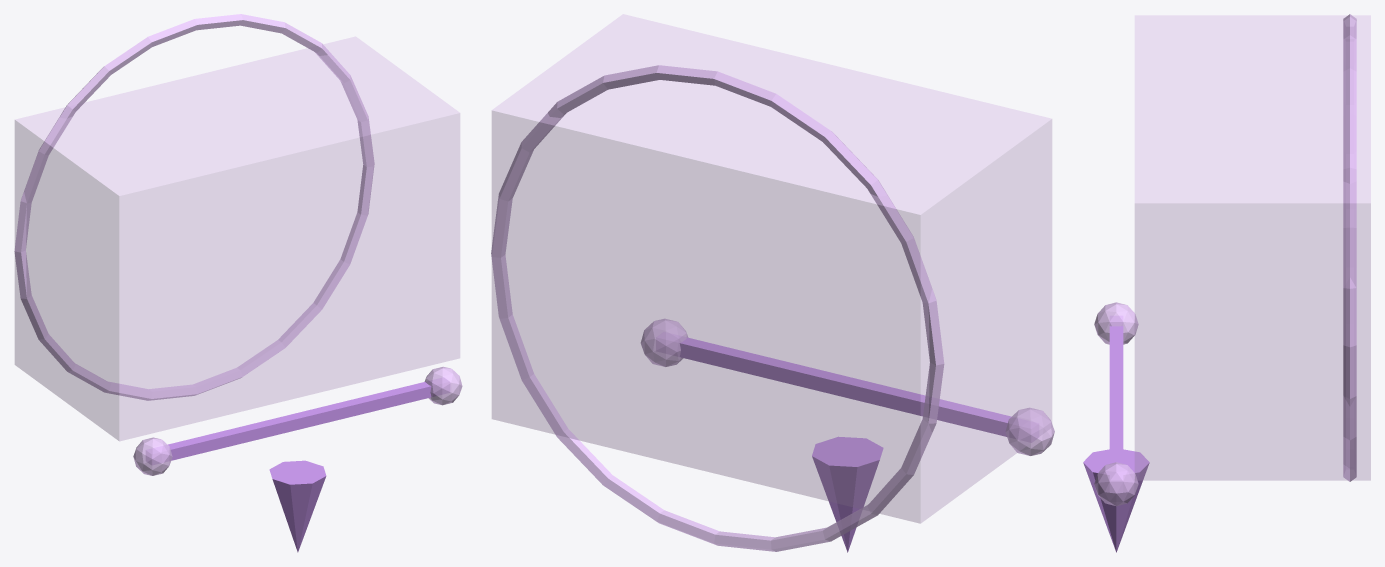
File: 06_dynamic_combat_camera_trigger.glb
3 renders of one model, left to right at view 1: azimuth 30°, elevation 25°; view 2: azimuth 150°, elevation 25°; view 3: azimuth 270°, elevation 25°, orthographic. The views are drawn at different scales.
Visible parts, largest first — view 1: combat_camera_volume, combat_start_ring, camera_rail, look_direction, camera_anchor_a, camera_anchor_b; view 2: combat_camera_volume, combat_start_ring, camera_rail, look_direction, camera_anchor_a, camera_anchor_b; view 3: combat_camera_volume, combat_start_ring, look_direction, camera_rail, camera_anchor_b, camera_anchor_a.
Part boxes in pixels (x1,y1,x2,y2): combat_camera_volume: (15, 36, 459, 441); combat_start_ring: (14, 14, 374, 400); camera_rail: (146, 378, 449, 464); look_direction: (269, 460, 326, 552); camera_anchor_a: (133, 437, 172, 475); camera_anchor_b: (424, 366, 462, 405); combat_camera_volume: (492, 14, 1051, 523); combat_start_ring: (491, 65, 944, 551); camera_rail: (679, 337, 1011, 436); look_direction: (812, 436, 883, 552); camera_anchor_a: (1005, 407, 1054, 455); camera_anchor_b: (641, 318, 687, 366); combat_camera_volume: (1135, 15, 1370, 480); combat_start_ring: (1343, 14, 1356, 481); look_direction: (1083, 449, 1149, 552); camera_rail: (1109, 316, 1123, 492); camera_anchor_b: (1094, 462, 1138, 506); camera_anchor_a: (1094, 302, 1138, 344).
Bounding box in the file's own units: 1.69 × 2.06 × 1.03.
